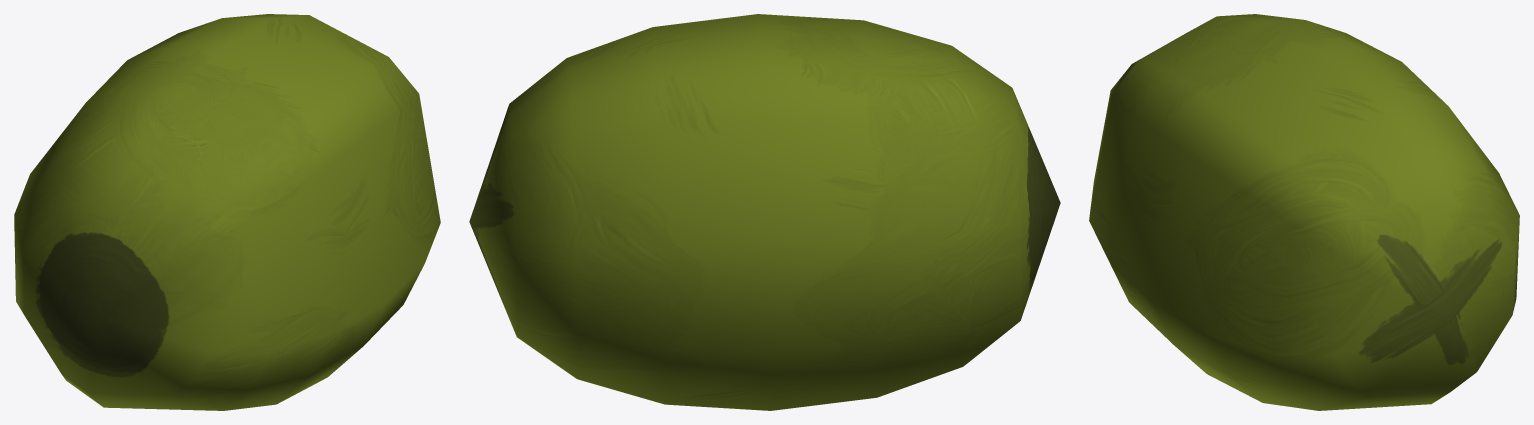
File: Olive.gltf
3 renders of one model, left to right at view 1: azimuth 30°, elevation 25°; view 2: azimuth 150°, elevation 25°; view 3: azimuth 270°, elevation 25°, orthographic. The views are drawn at different scales.
Visible parts, largest first — view 1: Olive; view 2: Olive; view 3: Olive.
Boxes of the visible parts, bbox=[...] form: Olive: bbox=[14, 14, 440, 410]; Olive: bbox=[469, 14, 1060, 410]; Olive: bbox=[1089, 14, 1519, 410].
Bounding box in the file's own units: 0.0482 × 0.0347 × 0.0414.
1 material, 1 textured.
